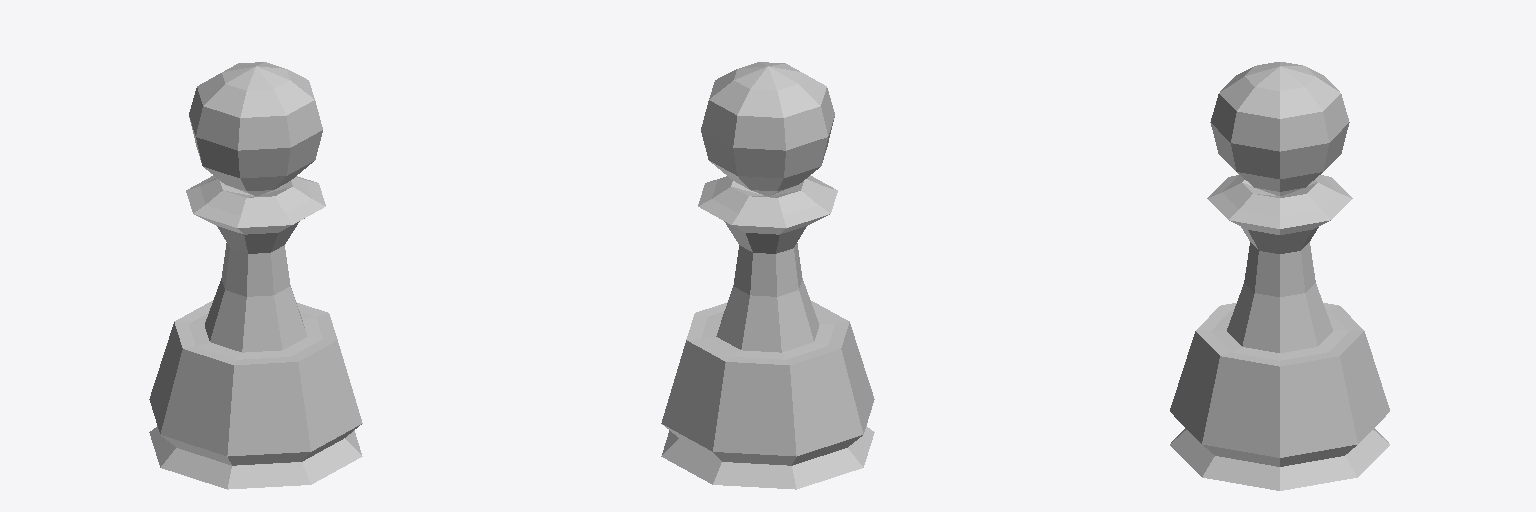
The model's file is pawn.obj.
3 renders of one model, left to right at view 1: azimuth 30°, elevation 25°; view 2: azimuth 150°, elevation 25°; view 3: azimuth 270°, elevation 25°, orthographic.
Size of the model in its own units: 552 by 1046 by 552.